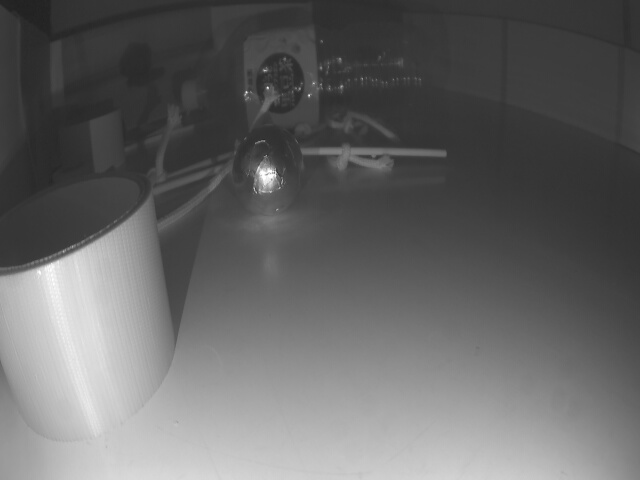Live: (235, 131, 300, 212)
